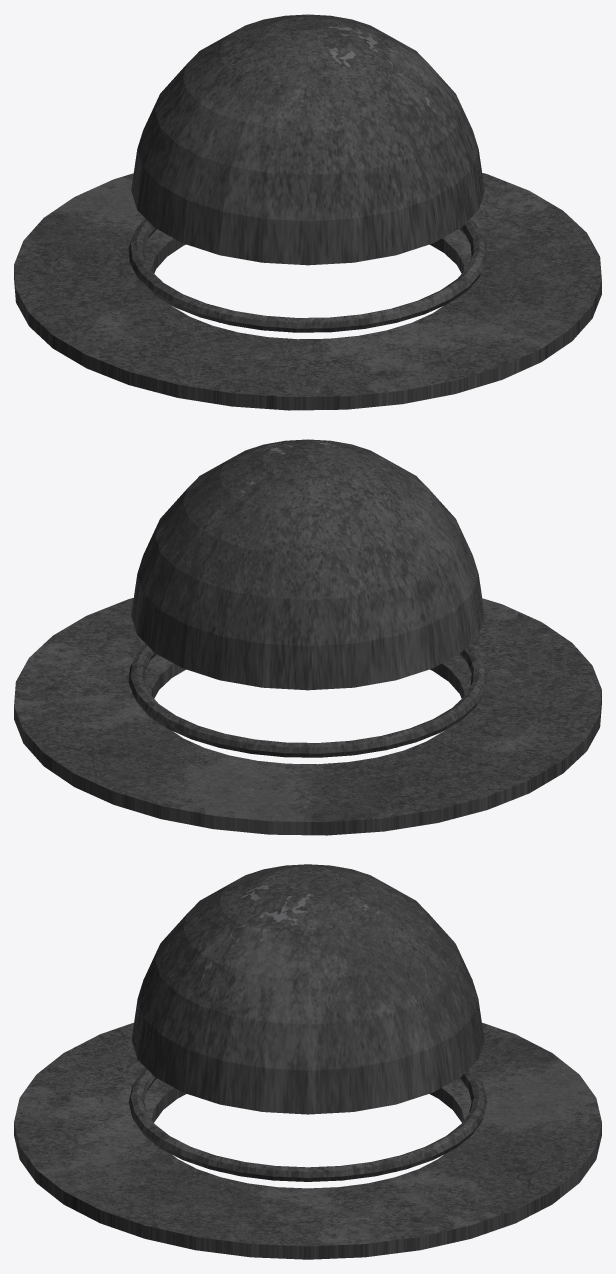
Rendered from kettle_helm.fbx.
The picture shows the model from 3 angles, top to bottom: view 1: azimuth 30°, elevation 25°; view 2: azimuth 150°, elevation 25°; view 3: azimuth 270°, elevation 25°; orthographic projection.
Visible parts, largest first — view 1: kettle_helm; view 2: kettle_helm; view 3: kettle_helm.
Part boxes in pixels (left/top/right/bottom): kettle_helm: left=14, top=14, right=601, bottom=410; kettle_helm: left=14, top=439, right=601, bottom=835; kettle_helm: left=14, top=864, right=601, bottom=1259.
Size of the model in its own units: 0.6 by 0.2875 by 0.6.
1 material, 1 textured.
